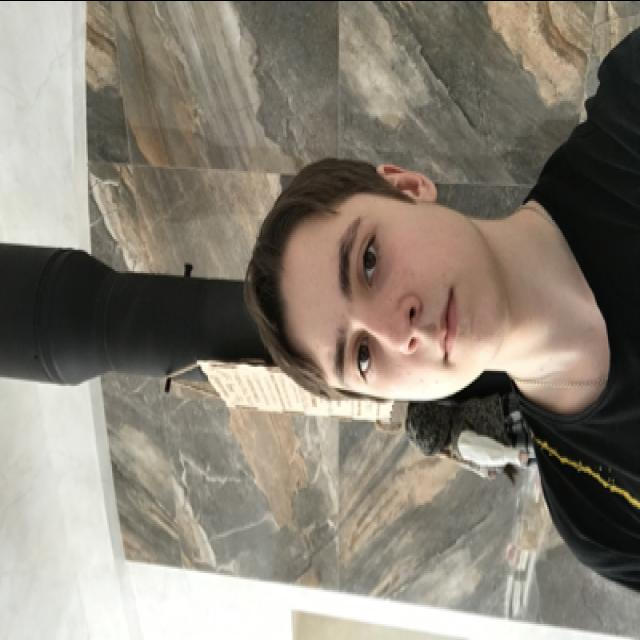without_mask: (332, 192, 506, 400)
